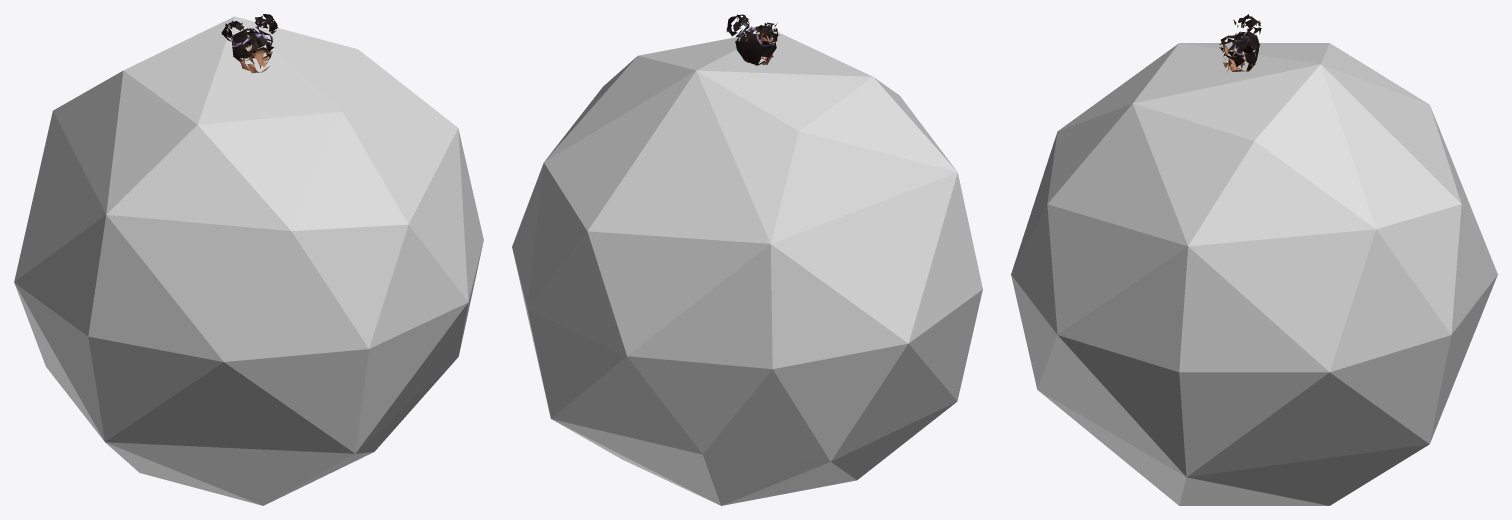
File: fan11.glb
3 renders of one model, left to right at view 1: azimuth 30°, elevation 25°; view 2: azimuth 150°, elevation 25°; view 3: azimuth 270°, elevation 25°, orthographic.
Parts seen in each view (by area): view 1: material_proxy; view 2: material_proxy; view 3: material_proxy.
Part boxes in pixels (left/top/right/bottom): material_proxy: left=14, top=14, right=483, bottom=505; material_proxy: left=512, top=14, right=982, bottom=505; material_proxy: left=1011, top=14, right=1497, bottom=505.
Size of the model in its own units: 1.9 by 2.13 by 2.
1 material, 1 textured.
